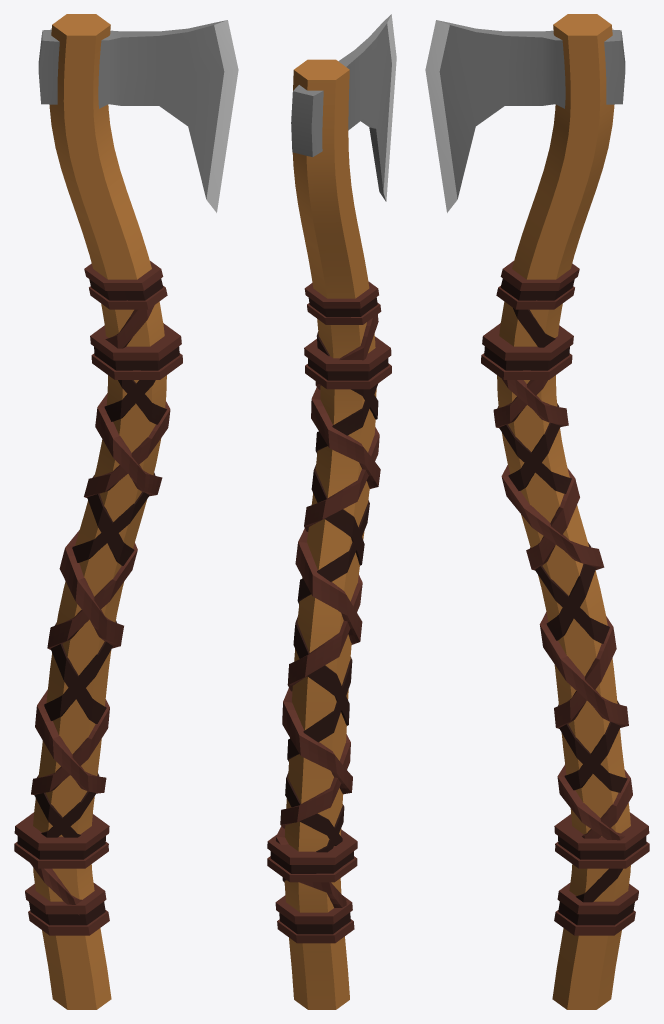
The model's file is Axe16.glb.
3 views of the same model, side by side, from view 1: azimuth 90°, elevation 25°; view 2: azimuth 150°, elevation 25°; view 3: azimuth 270°, elevation 25° (orthographic). The views are drawn at different scales.
Visible parts, largest first — view 1: weapon_generator; view 2: weapon_generator; view 3: weapon_generator.
Part boxes in pixels (x1,y1,x2,y2): weapon_generator: (14, 14, 238, 1009); weapon_generator: (267, 14, 396, 1009); weapon_generator: (425, 14, 649, 1009).
Bounding box in the file's own units: 0.0556 × 0.735 × 0.1525.
